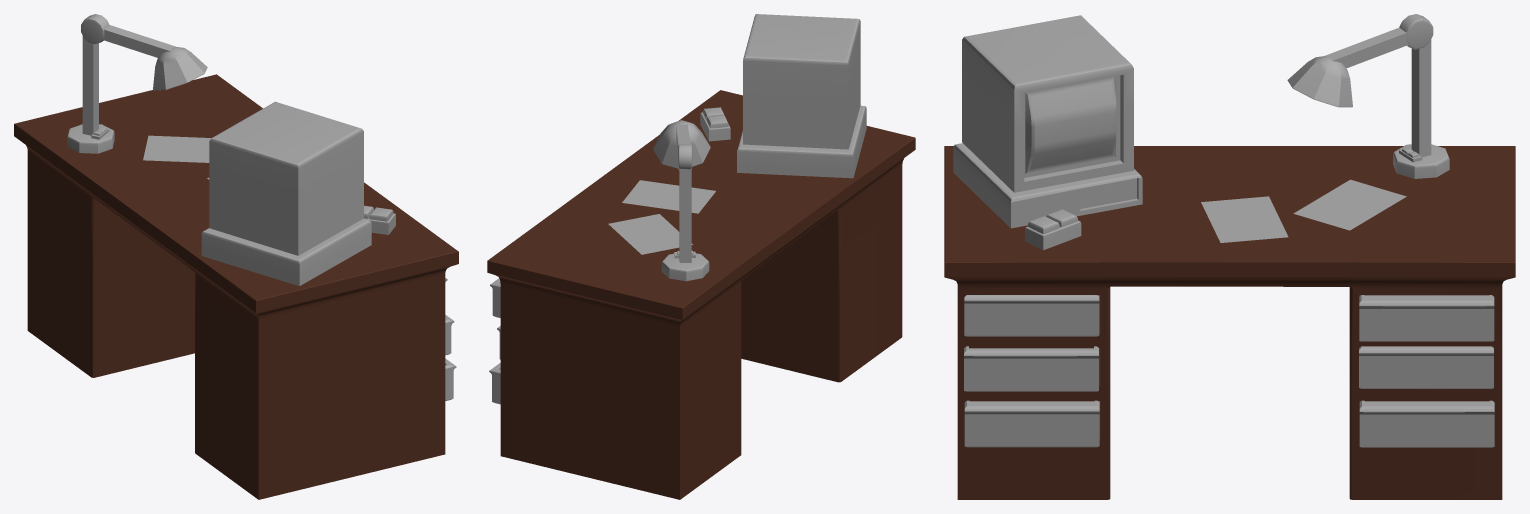
File: Desk.fbx
The picture shows the model from 3 angles, left to right: view 1: azimuth 30°, elevation 25°; view 2: azimuth 150°, elevation 25°; view 3: azimuth 270°, elevation 25°; orthographic projection. The views are drawn at different scales.
Visible parts, largest first — view 1: pCube20, pasted__pasted__pCube21, pCube21, pasted__pPlane1, pCone1, pCube23, pasted__pCube23, pCylinder1, pCylinder2; view 2: pCube20, pasted__pasted__pCube21, pCube21, pasted__pPlane1, pPlane1, pCone1, pCube23, pCylinder1; view 3: pCube20, pasted__pasted__pCube21, pCube21, pCube16, pCube19, pCube14, pCube18, pCube15, pCube17, pasted__pPlane1, pPlane1, pCone1 (+5 smaller).
Boxes of the visible parts, <box> form: pCube20: <box>14,74,458,499</box>; pasted__pasted__pCube21: <box>209,101,363,255</box>; pCube21: <box>201,218,371,286</box>; pasted__pPlane1: <box>143,135,211,162</box>; pCone1: <box>153,47,207,90</box>; pCube23: <box>82,36,98,135</box>; pasted__pCube23: <box>103,25,175,57</box>; pCylinder1: <box>67,124,114,153</box>; pCylinder2: <box>81,14,109,43</box>; pCube20: <box>487,90,915,499</box>; pasted__pasted__pCube21: <box>743,14,860,149</box>; pCube21: <box>737,105,866,178</box>; pasted__pPlane1: <box>608,214,692,254</box>; pPlane1: <box>622,180,715,213</box>; pCone1: <box>653,120,710,168</box>; pCube23: <box>679,168,691,262</box>; pCylinder1: <box>661,253,709,281</box>; pCube20: <box>944,146,1515,499</box>; pasted__pasted__pCube21: <box>962,15,1133,192</box>; pCube21: <box>953,143,1142,228</box>; pCube16: <box>1359,400,1494,447</box>; pCube19: <box>964,400,1099,447</box>; pCube14: <box>1359,295,1494,341</box>; pCube18: <box>964,346,1098,391</box>; pCube15: <box>1359,346,1493,388</box>; pCube17: <box>964,295,1099,336</box>; pasted__pPlane1: <box>1293,179,1406,230</box>; pPlane1: <box>1201,196,1288,242</box>; pCone1: <box>1287,56,1352,107</box>.
Size of the model in its own units: 1.13 by 1.71 by 2.25.
